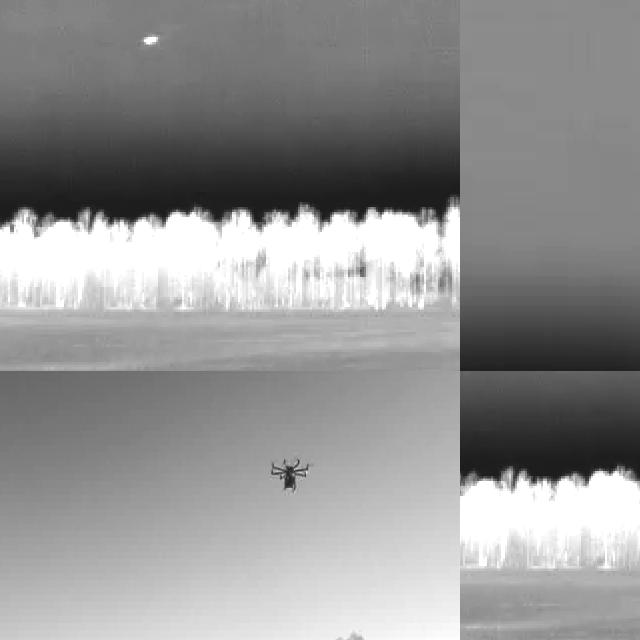1: (136, 27, 172, 57)
drone: (267, 448, 313, 498)
